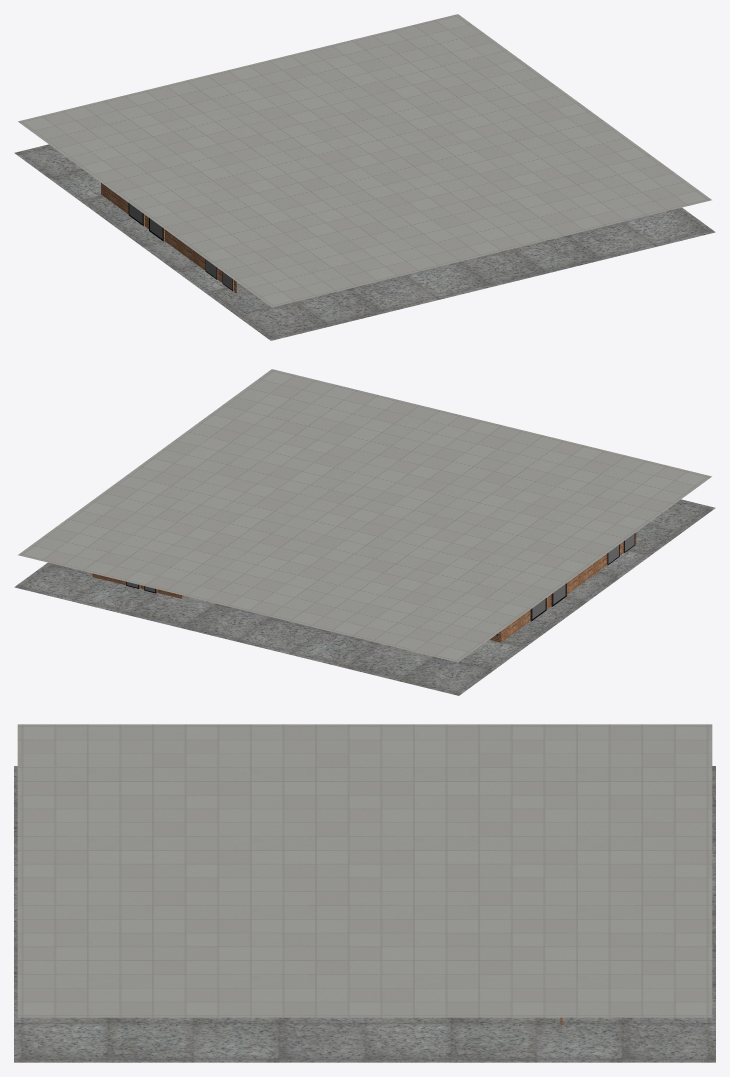
Rendered from pasilloA3.fbx.
3 views of the same model, one above another, from view 1: azimuth 30°, elevation 25°; view 2: azimuth 150°, elevation 25°; view 3: azimuth 270°, elevation 25° (orthographic). The views are drawn at different scales.
Parts seen in each view (by area): view 1: Plane, Plane.001, Plane.013; view 2: Plane, Plane.001, Plane.013; view 3: Plane, Plane.001.
Part boxes in pixels (x1,y1,x2,y2): Plane: [18, 14, 711, 307]; Plane.001: [14, 144, 715, 340]; Plane.013: [101, 183, 236, 293]; Plane: [18, 369, 711, 662]; Plane.001: [14, 499, 715, 695]; Plane.013: [92, 532, 636, 642]; Plane: [17, 724, 712, 1017]; Plane.001: [14, 766, 715, 1062].
Bounding box in the file's own units: 5956 × 406 × 5956.
6 materials, 4 textured.
